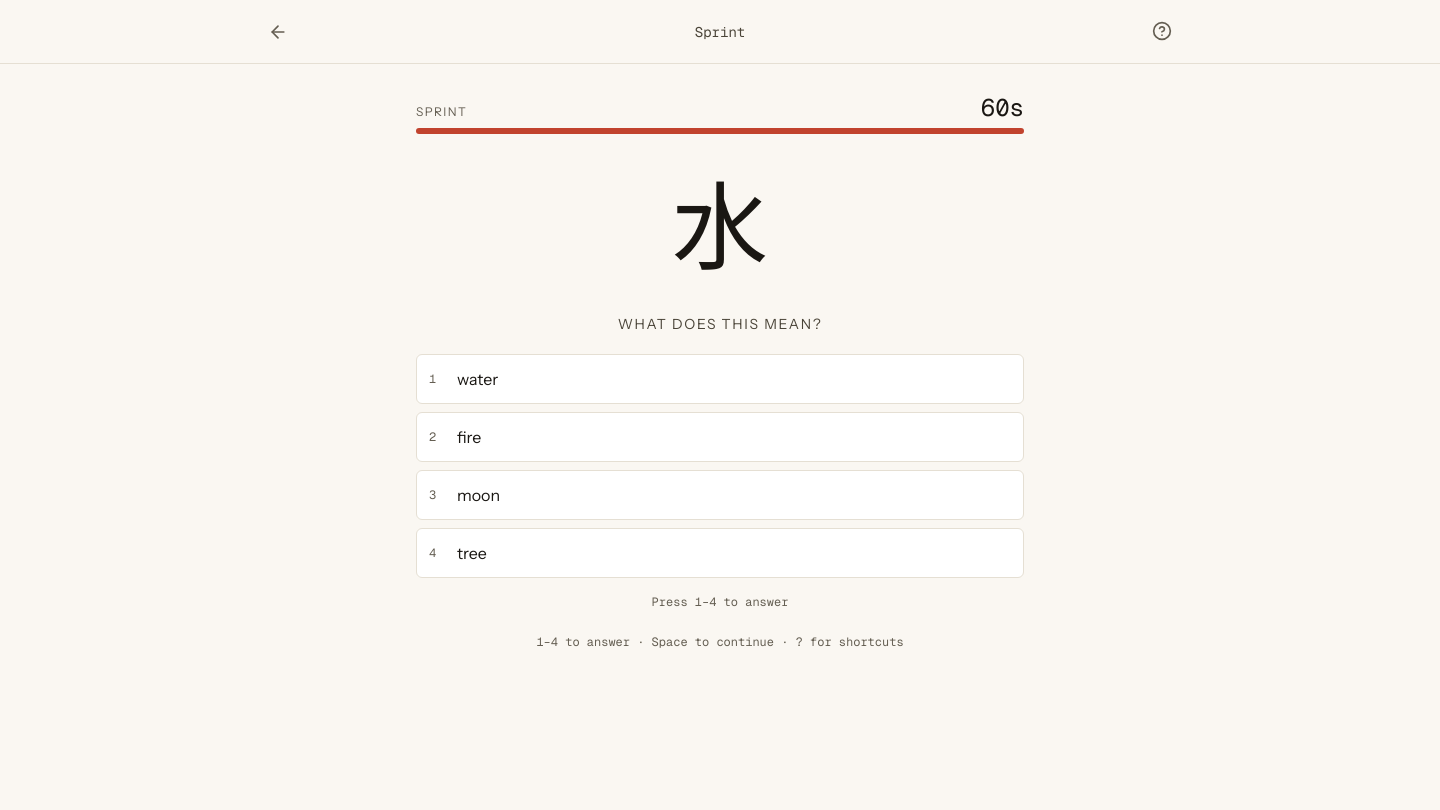
Test: Quiz session (§7.6) — sprint clock › adopts the server remaining time after a correct answer
Expected: the text "60s" is shown, [981,96,1024,120]
Click the button "1 water".
click(478, 379)  # box [416,354,1024,404]
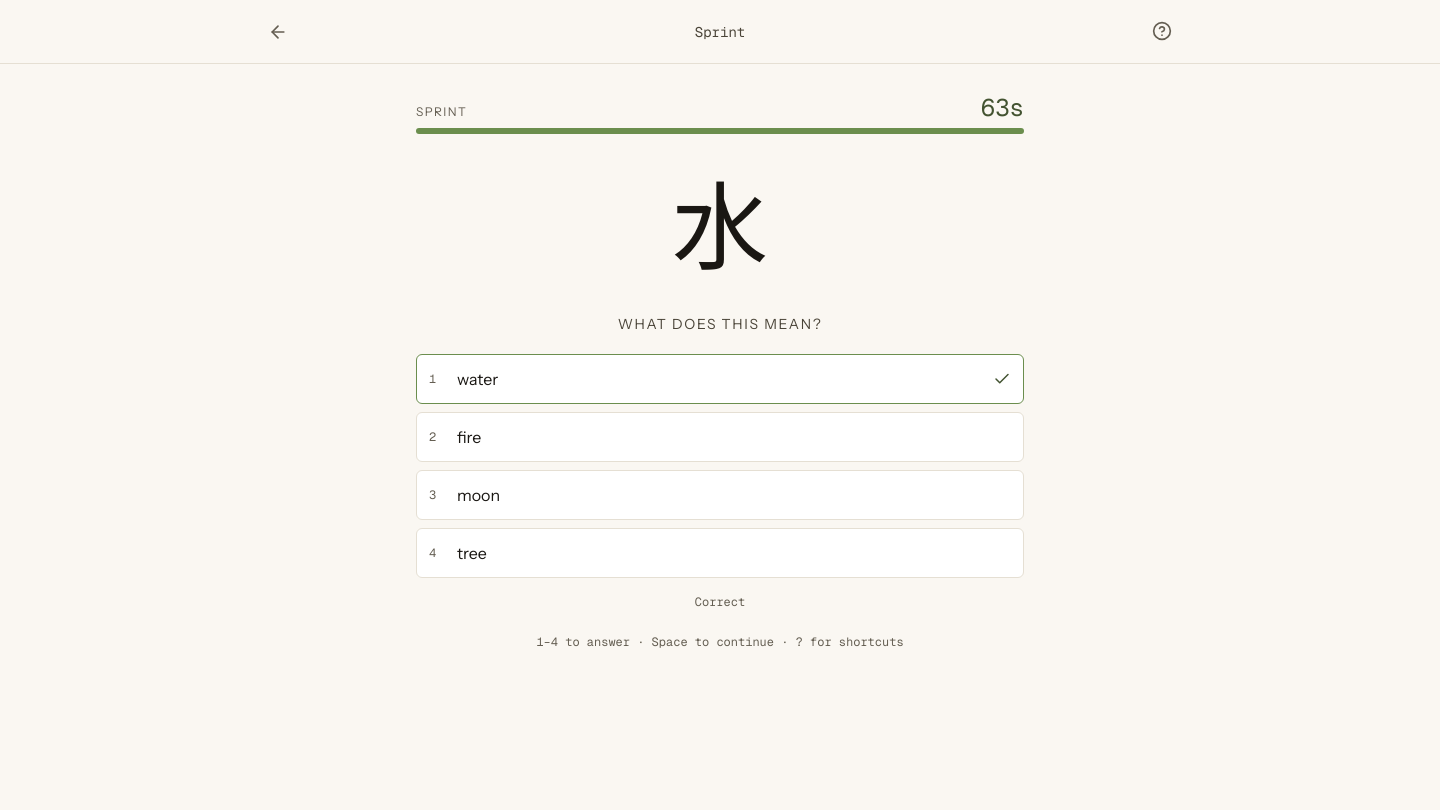
Now the text "63s" is shown, box [981,96,1024,120]
